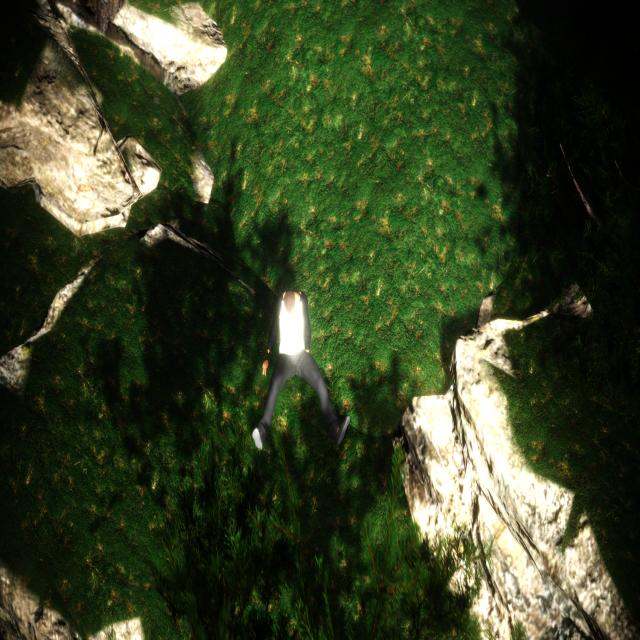Human: (237, 281, 354, 467)
